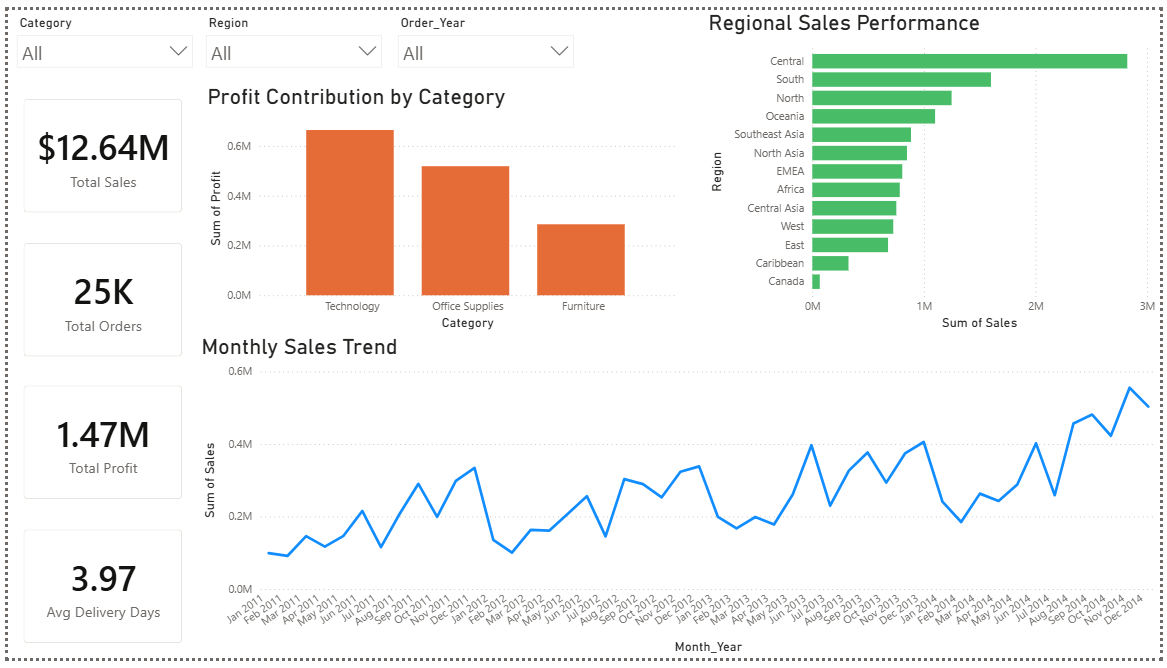

The page's visual inventory and layout, read from the dashboard file:
{"tool":"powerbi","page":{"name":"Executive Overview","canvas":[1280,720],"ordinal":0},"visuals":[{"type":"cardVisual","fields":{"Data":["sales_analytics sales_data.Total Sales"]},"box":[0,82,210,160],"z":0},{"type":"cardVisual","fields":{"Data":["sales_analytics sales_data.Total Profit"]},"box":[0,400.7,210,160],"z":1000},{"type":"cardVisual","fields":{"Data":["sales_analytics sales_data.Total Orders"]},"box":[0,241.3,210,160],"z":2000},{"type":"cardVisual","fields":{"Data":["sales_analytics sales_data.Avg Delivery Days"]},"box":[0,560,210,160],"z":3000},{"type":"lineChart","title":"Monthly Sales Trend","fields":{"Y":["Sum(sales_analytics sales_data.Sales)"],"Category":["sales_analytics sales_data.Month_Year"]},"box":[210,360,1070,360],"z":4000},{"type":"barChart","title":"Regional Sales Performance","fields":{"Category":["sales_analytics sales_data.Region"],"Y":["Sum(sales_analytics sales_data.Sales)"]},"box":[774,0,506,360],"z":5000},{"type":"columnChart","title":"Profit Contribution by Category","fields":{"Category":["sales_analytics sales_data.Category"],"Y":["Sum(sales_analytics sales_data.Profit)"]},"box":[216,82,530,278],"z":6000},{"type":"slicer","fields":{"Values":["sales_analytics sales_data.Region"]},"box":[210,0,215,81],"z":7000},{"type":"slicer","fields":{"Values":["sales_analytics sales_data.Category"]},"box":[0,0,215,81],"z":8000},{"type":"slicer","fields":{"Values":["sales_analytics sales_data.Order_Year"]},"box":[423.3,0,215,81.3],"z":9000}]}

Visuals, with their boxes in screenshot pixels (x1, y1, x2, y2), scaled from the page's 1280x720 canvas onto the 1167x668 screenshot:
cardVisual - sales_analytics sales_data.Total Sales: BBox(0, 76, 191, 225)
cardVisual - sales_analytics sales_data.Total Profit: BBox(0, 372, 191, 520)
cardVisual - sales_analytics sales_data.Total Orders: BBox(0, 224, 191, 372)
cardVisual - sales_analytics sales_data.Avg Delivery Days: BBox(0, 520, 191, 667)
"Monthly Sales Trend" lineChart: BBox(191, 334, 1166, 667)
"Regional Sales Performance" barChart: BBox(706, 0, 1166, 334)
"Profit Contribution by Category" columnChart: BBox(197, 76, 680, 334)
slicer - sales_analytics sales_data.Region: BBox(191, 0, 387, 75)
slicer - sales_analytics sales_data.Category: BBox(0, 0, 196, 75)
slicer - sales_analytics sales_data.Order_Year: BBox(386, 0, 582, 75)
